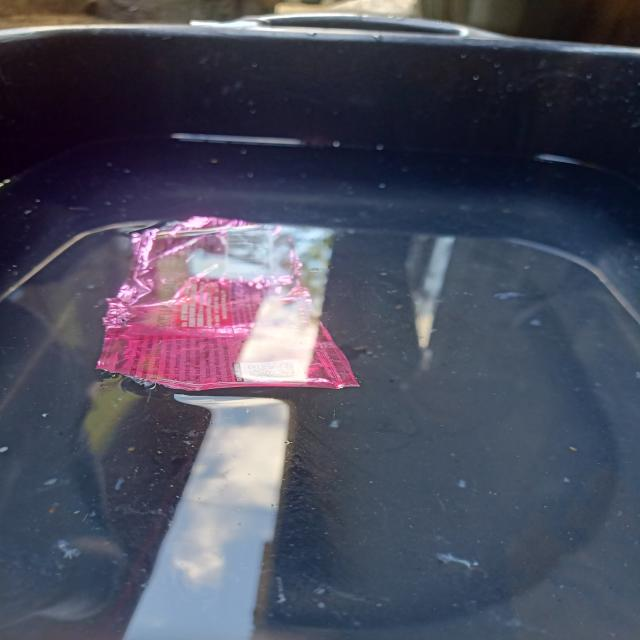Plastic Wrapper: (77, 216, 366, 419)
